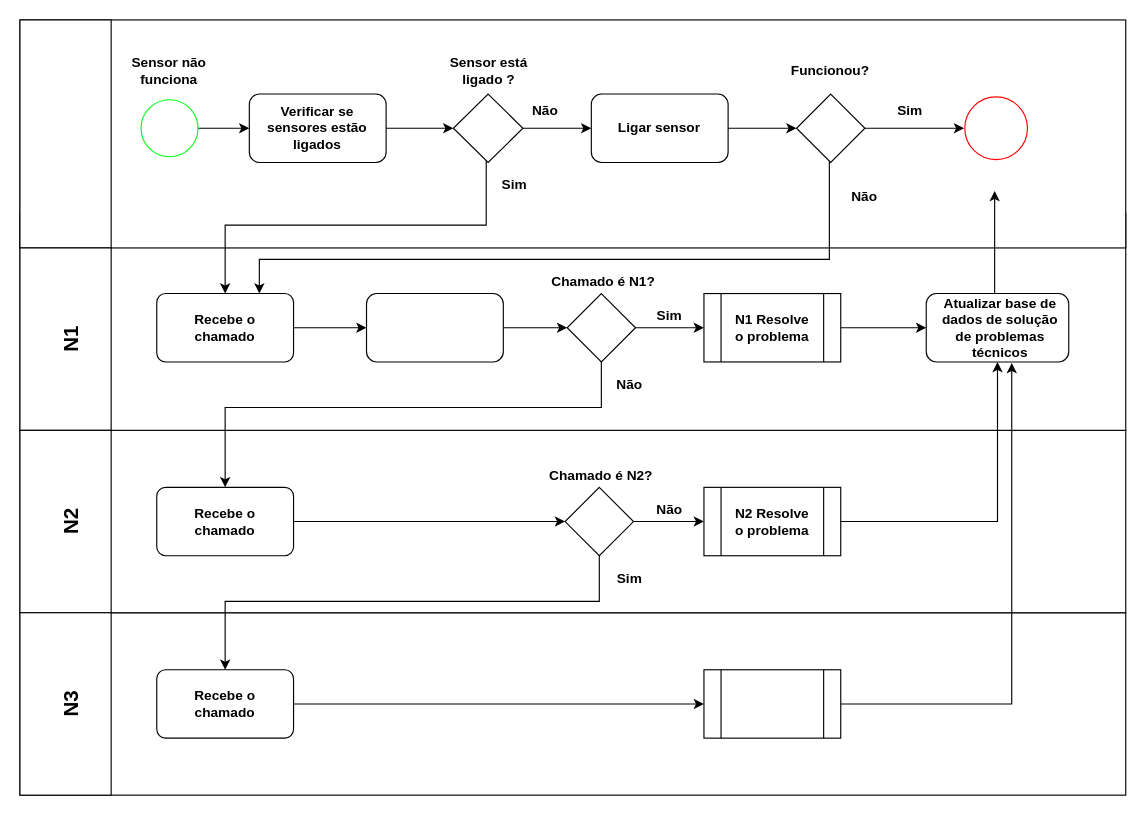
The diagram is 1146 pixels wide and 815 high, and some of its shapes have lost their labels. Each missing label, with the centre of its shape:
Classificar chamado N1,N2 E N3: pixel 434 327
Cliente: pixel 65 133
Fim: pixel 995 128
Inicio: pixel 169 128
N3 Resolve o problema: pixel 772 703
